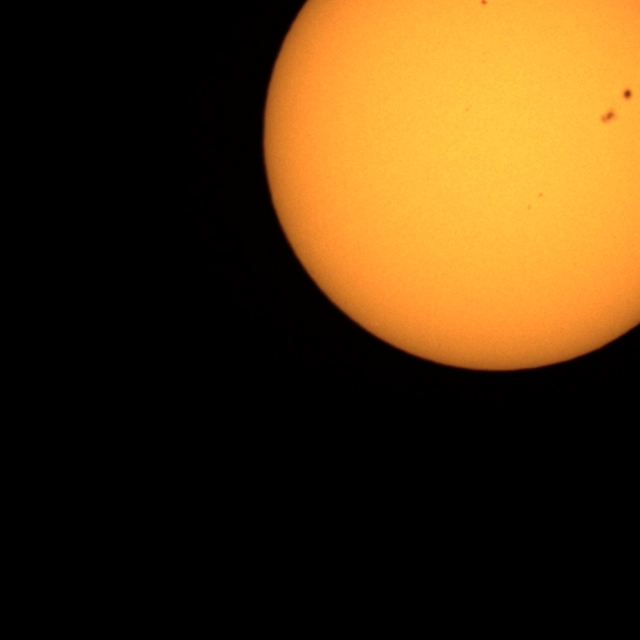sunspot: (598, 109, 616, 125), (622, 88, 634, 102), (479, 0, 489, 7), (464, 105, 472, 113), (538, 191, 544, 198)
